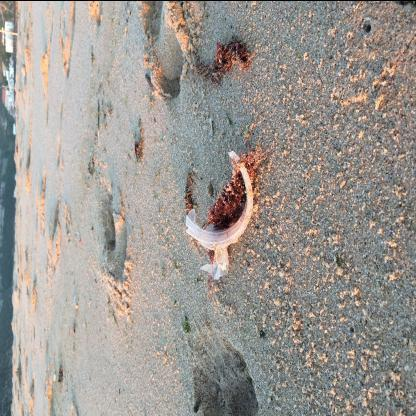plastik: (186, 148, 256, 282)
